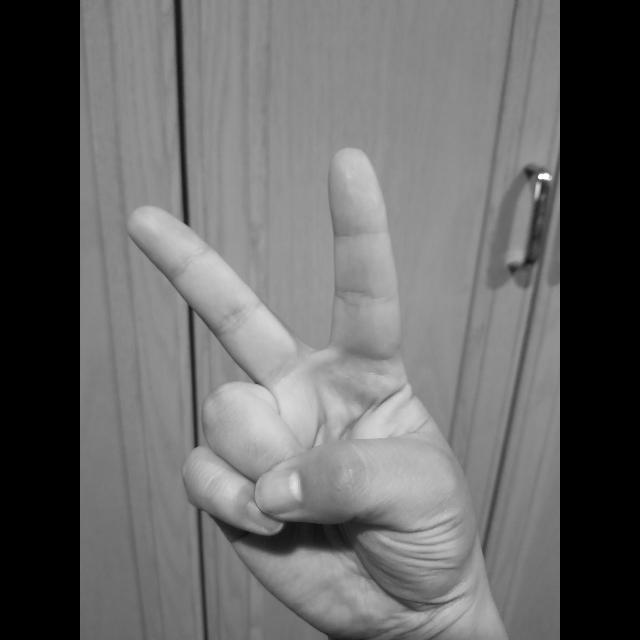V: (120, 141, 488, 639)
